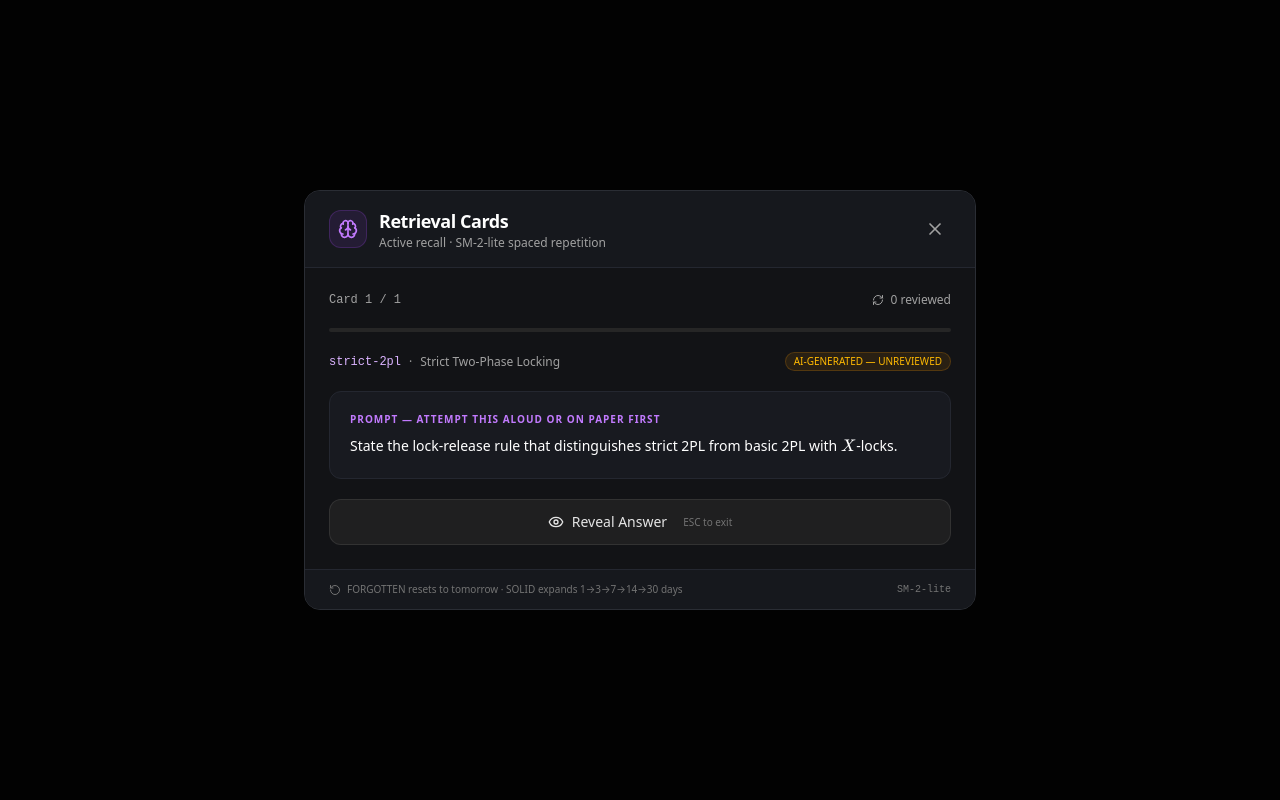
CardReviewDrawer Component › 4 honest-judge PASS - grading the last card completes the session without extra fetches
Click the button with test id "card-reveal-btn" at (640, 522), box [329,499,951,545]
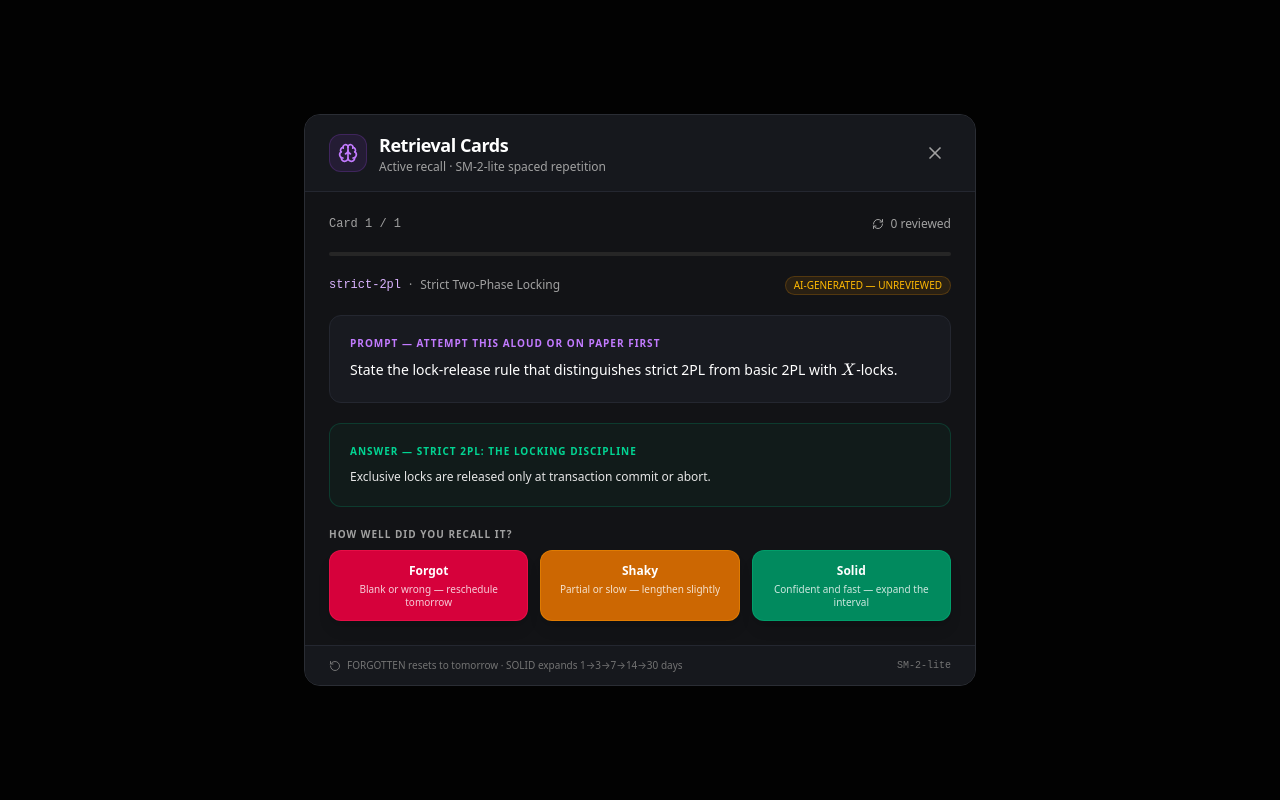
Click the button with test id "grade-shaky-btn" at (640, 586), box [540,550,740,621]
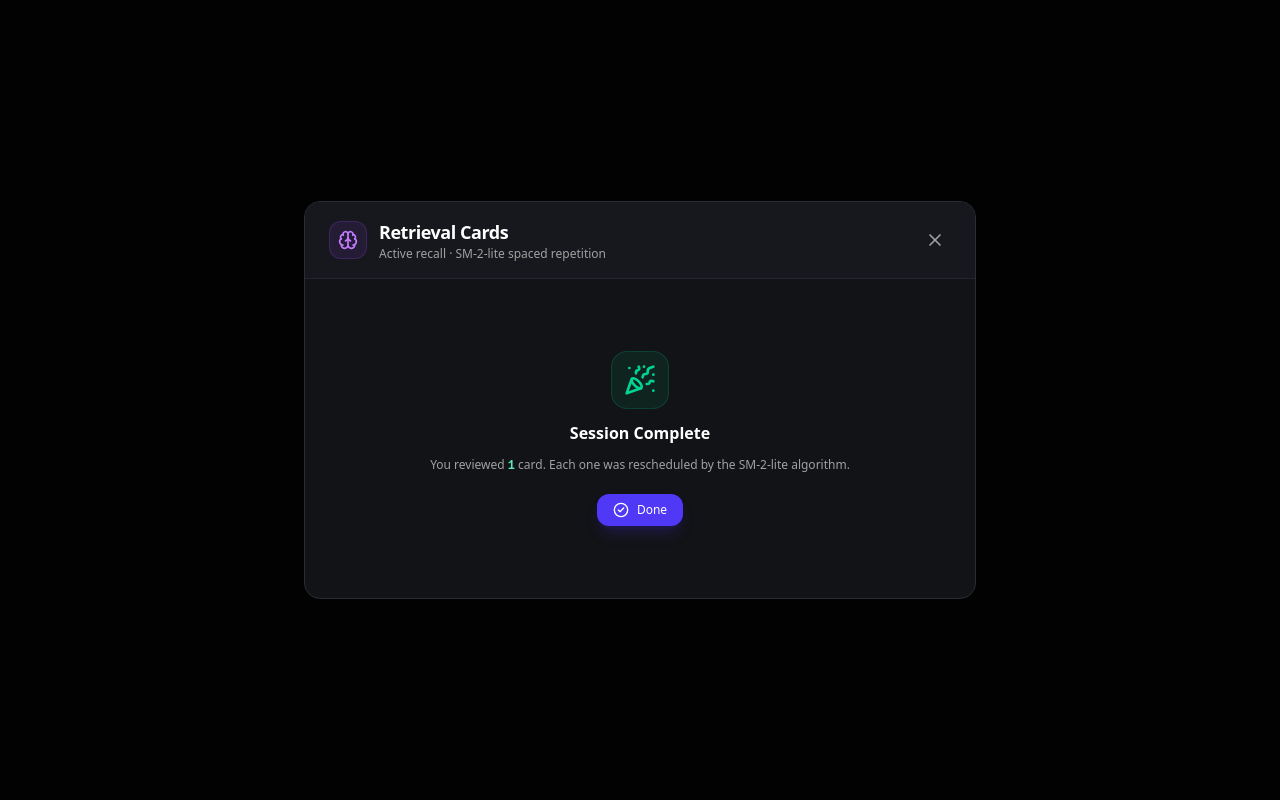
Result: the element with test id "card-drawer-complete" shows "You reviewed 1 card" at [430,351,850,526]
